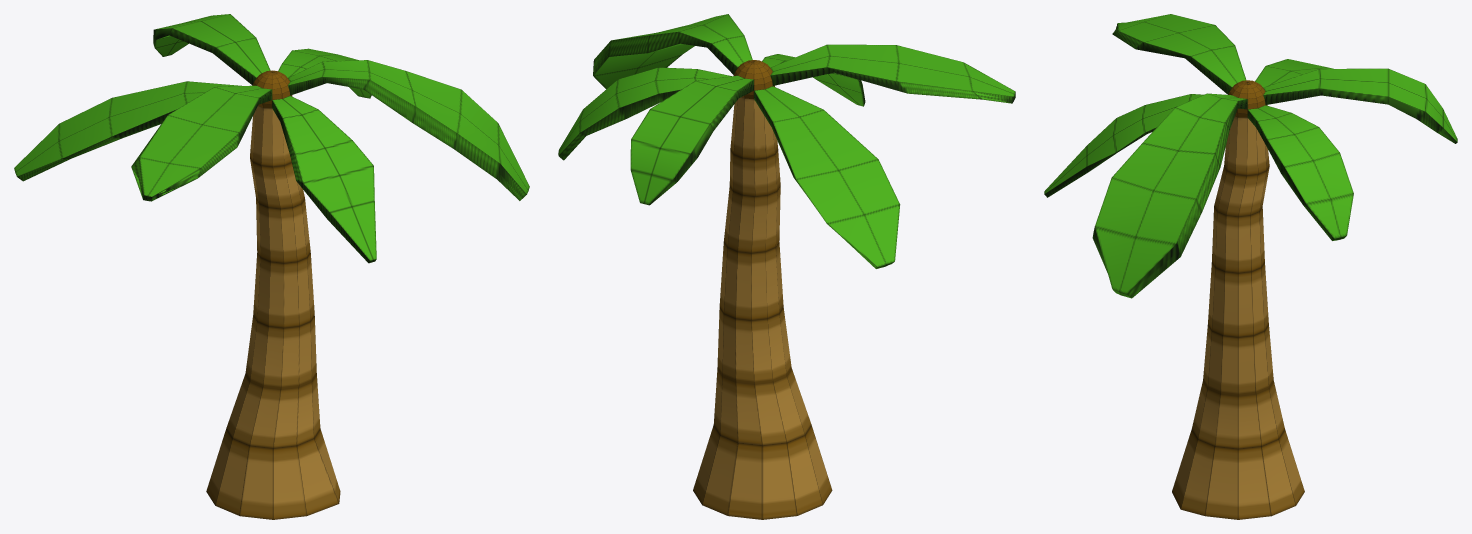
File: PalmTree.fbx
The picture shows the model from 3 angles, left to right: view 1: azimuth 30°, elevation 25°; view 2: azimuth 150°, elevation 25°; view 3: azimuth 270°, elevation 25°; orthographic projection. The views are drawn at different scales.
Parts seen in each view (by area): view 1: pSphere2; view 2: pSphere2; view 3: pSphere2.
Part boxes in pixels (<box>): pSphere2: <box>14,14,529,519</box>; pSphere2: <box>558,14,1015,519</box>; pSphere2: <box>1044,14,1457,519</box>.
Size of the model in its own units: 12.94 by 13.26 by 11.91.
